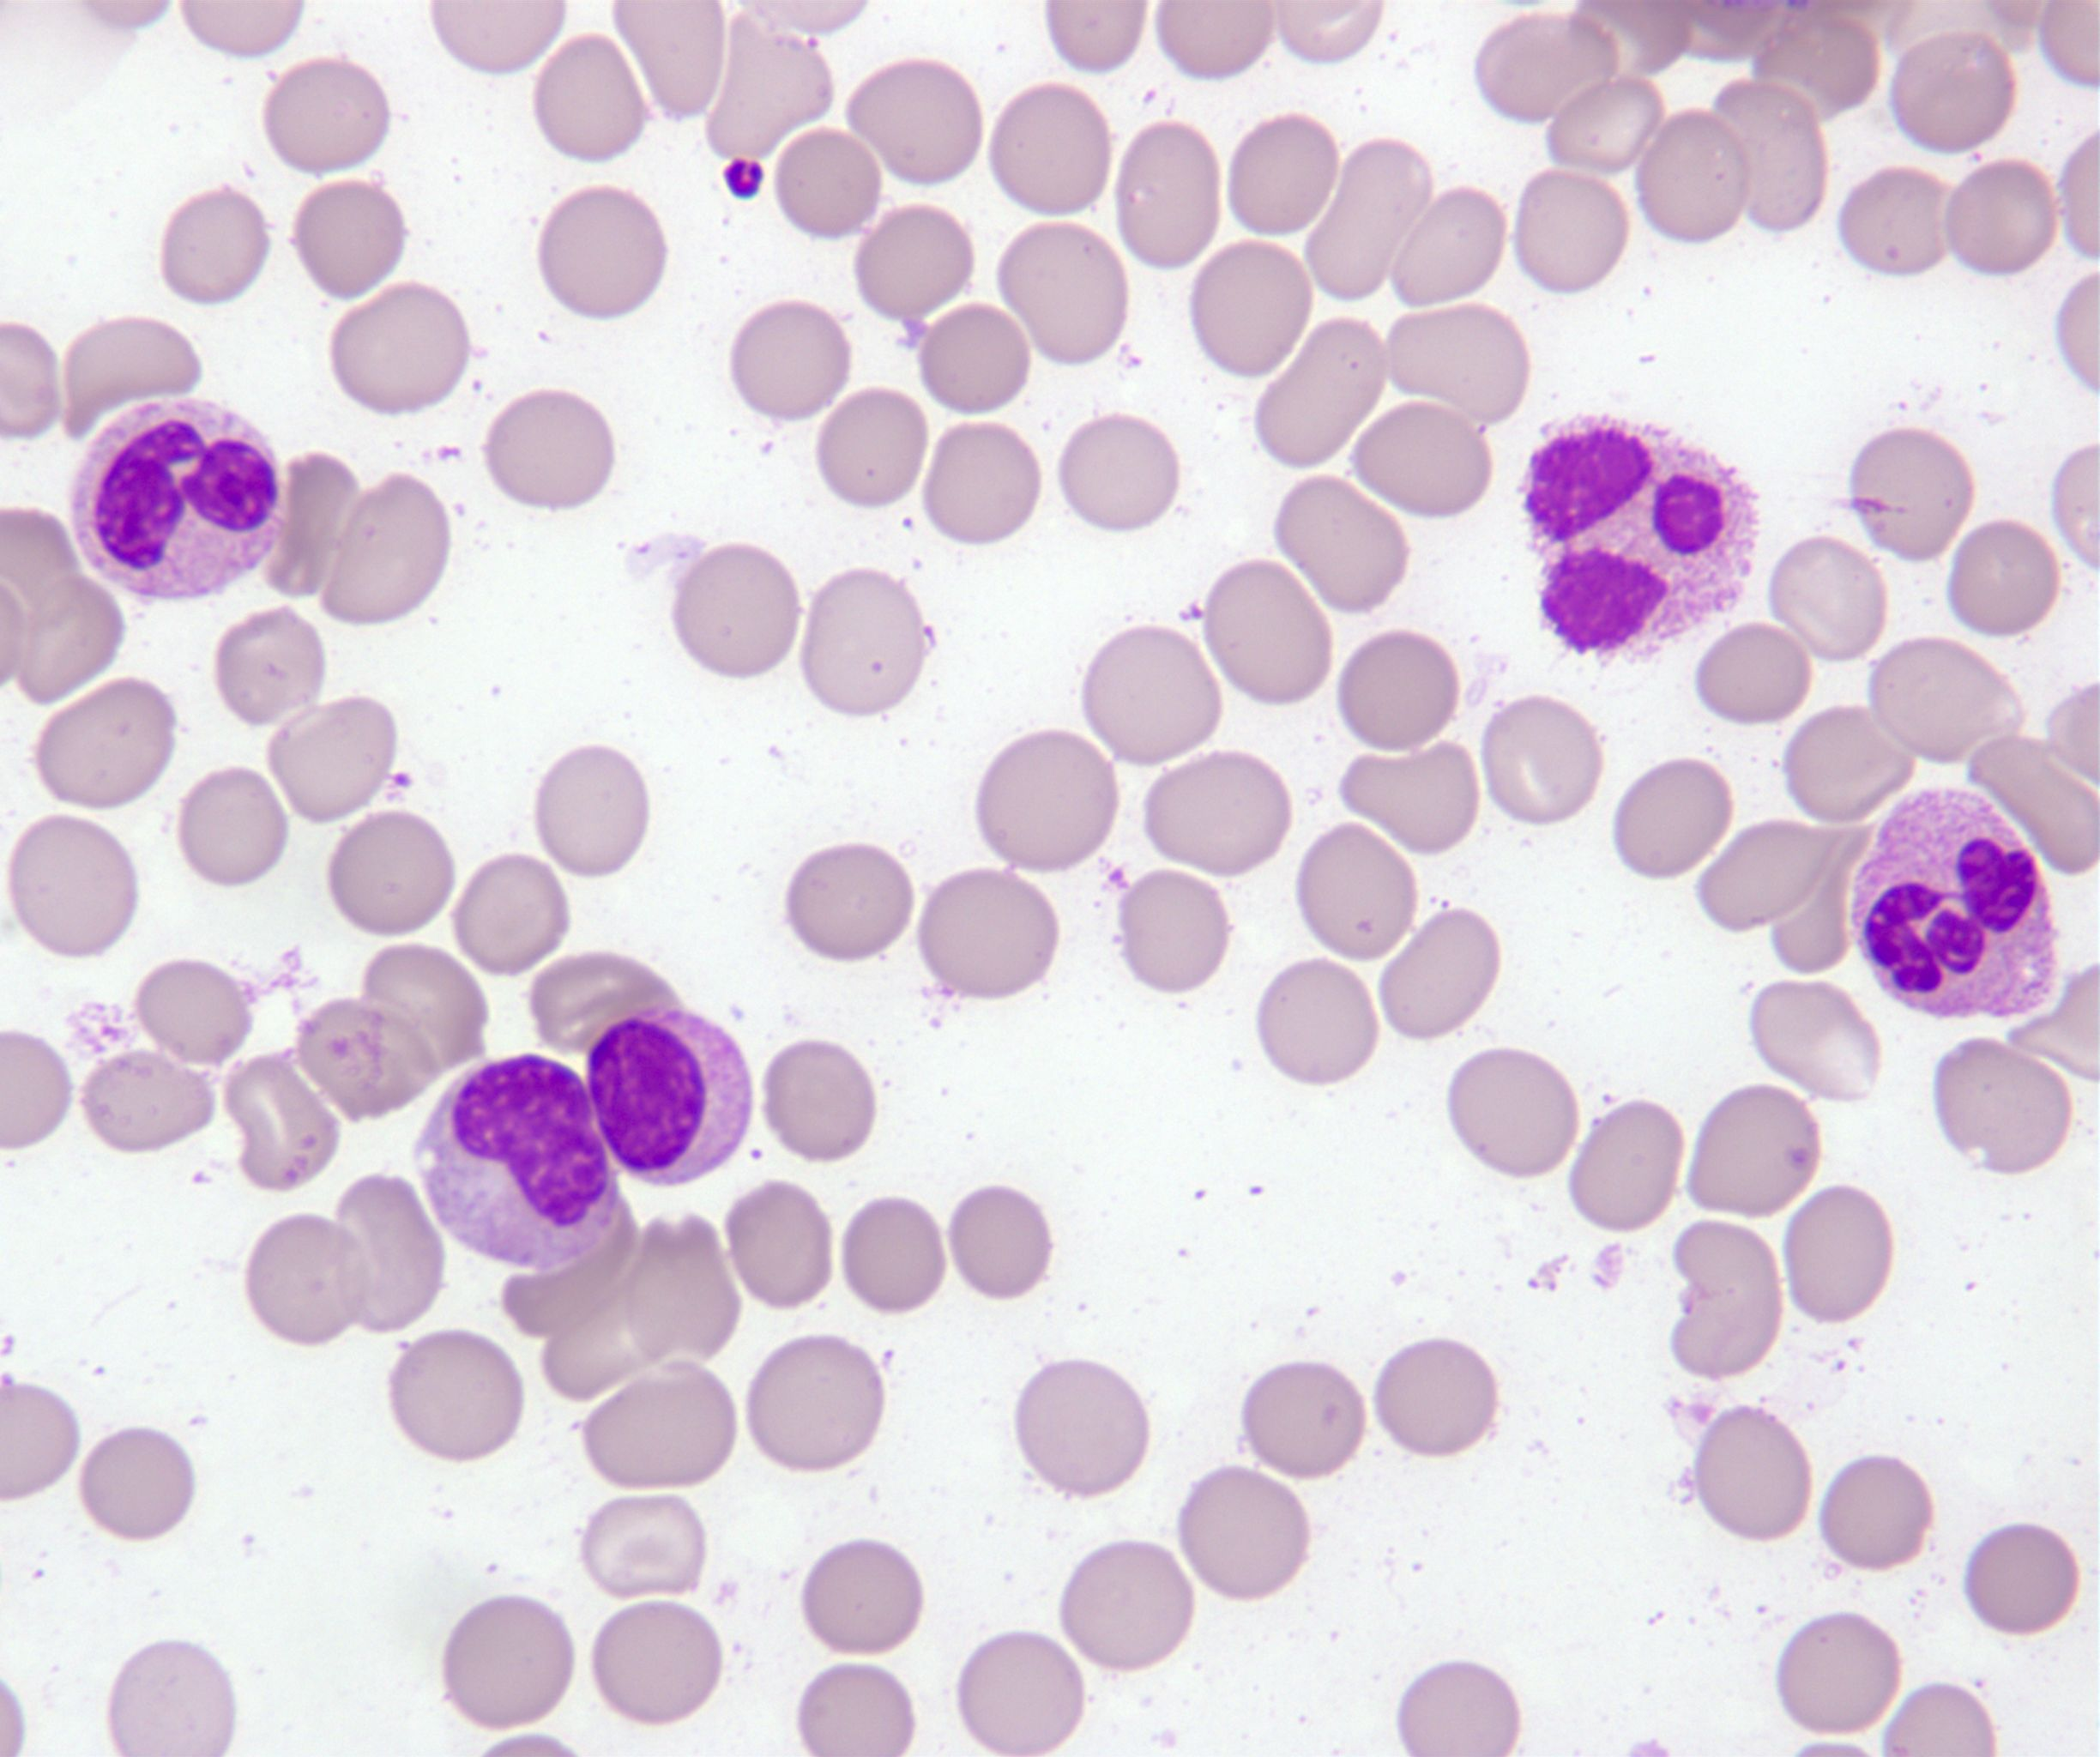3: (588, 1010, 750, 1186)
4: (412, 1054, 616, 1268)
6: (1851, 789, 2055, 1015), (70, 400, 284, 598)
x: (1523, 417, 1755, 663)
